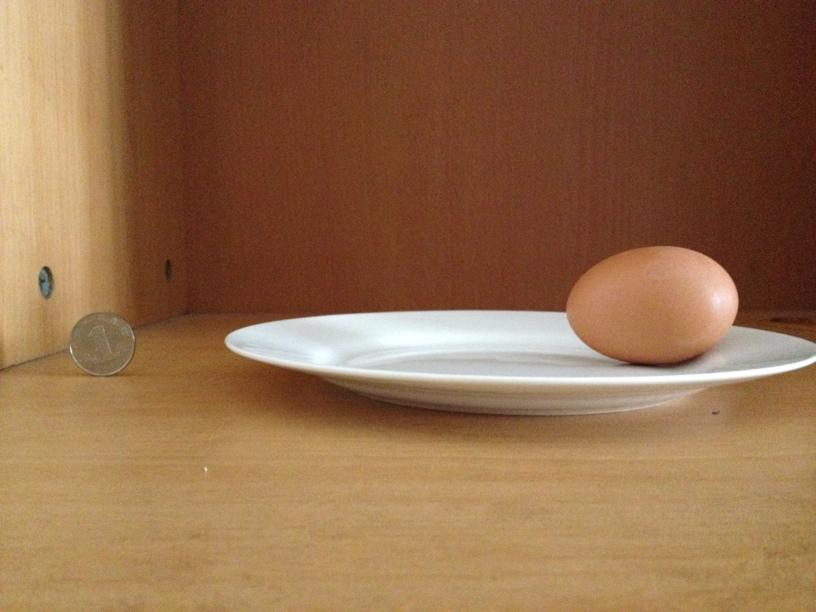coin: (67, 312, 136, 376)
egg: (563, 242, 740, 362)
